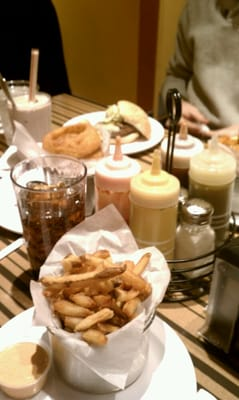pizza: (10, 154, 87, 281)
